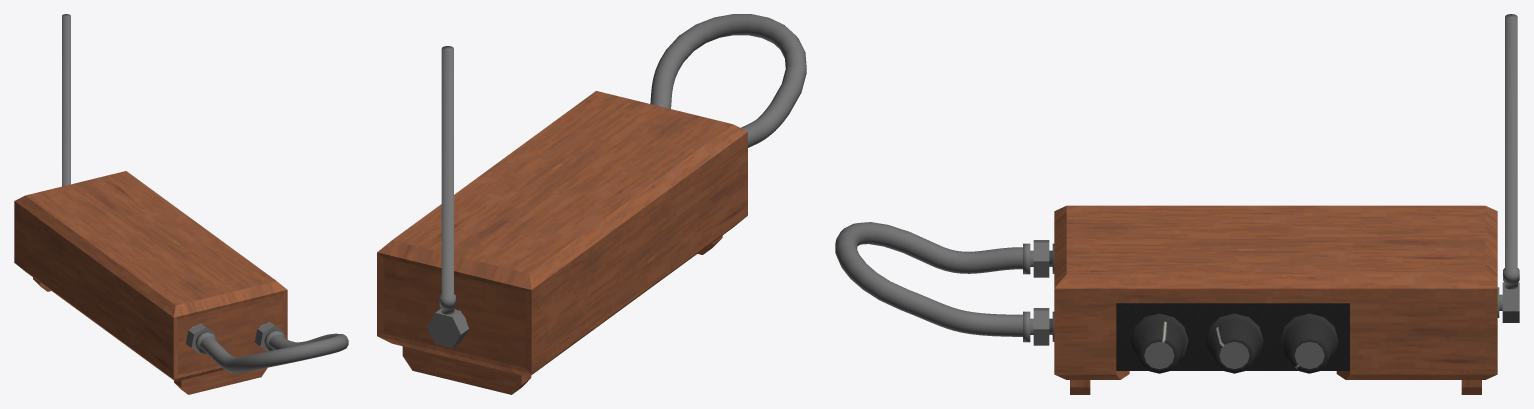
Rendered from Theremin.fbx.
3 renders of one model, left to right at view 1: azimuth 30°, elevation 25°; view 2: azimuth 150°, elevation 25°; view 3: azimuth 270°, elevation 25°, orthographic. The views are drawn at different scales.
Visible parts, largest first — view 1: mdlTheremin.002; view 2: mdlTheremin.002; view 3: mdlTheremin.002.
Part boxes in pixels (left/top/right/bottom): mdlTheremin.002: left=14, top=14, right=348, bottom=394; mdlTheremin.002: left=377, top=14, right=806, bottom=394; mdlTheremin.002: left=835, top=14, right=1519, bottom=394.
Bounding box in the file's own units: 0.9552 × 1.76 × 3.09.
